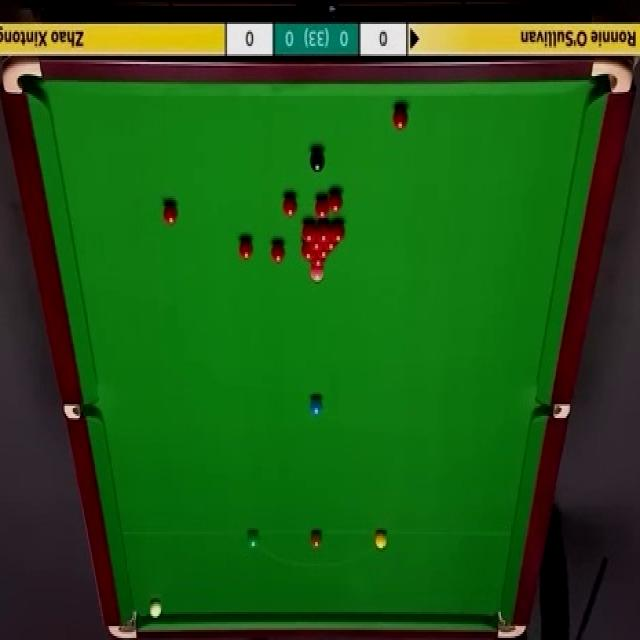blue-ball: (310, 393, 324, 418)
brown-ball: (310, 531, 323, 550)
green-ball: (246, 531, 259, 550)
pink-ball: (310, 267, 326, 283)
red-ball: (391, 104, 409, 130), (314, 194, 331, 219), (269, 242, 286, 263), (329, 221, 345, 243), (282, 197, 298, 218), (163, 203, 178, 224), (240, 240, 254, 261), (328, 192, 342, 213), (302, 222, 316, 243), (301, 241, 318, 258), (323, 234, 339, 252), (310, 249, 326, 267), (316, 243, 332, 258), (318, 223, 330, 240), (310, 236, 324, 250)
white-ball: (148, 598, 163, 620)
yellow-ball: (375, 531, 388, 550)
